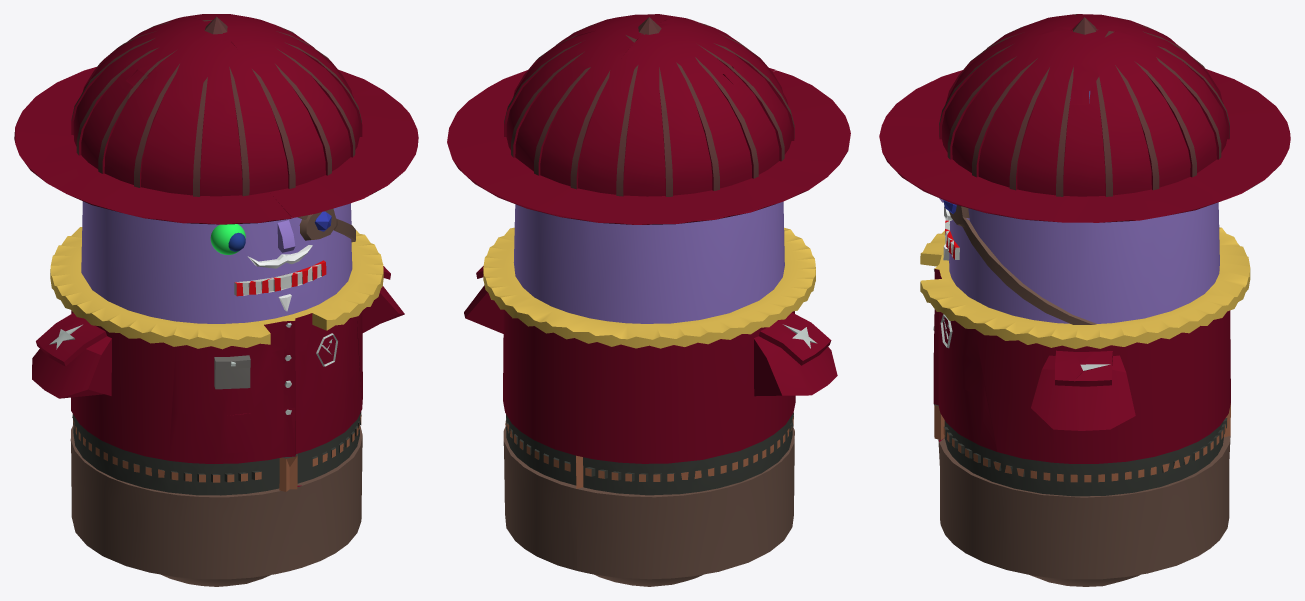
The model's file is PiyerLowPoly.fbx.
3 views of the same model, side by side, from view 1: azimuth 30°, elevation 25°; view 2: azimuth 150°, elevation 25°; view 3: azimuth 270°, elevation 25° (orthographic).
Parts seen in each view (by area): view 1: Sphere, Sphere.001; view 2: Sphere; view 3: Sphere.
Boxes of the visible parts, x1,y1,x2,y2 form: Sphere: [14, 14, 418, 586]; Sphere.001: [210, 224, 245, 254]; Sphere: [447, 14, 850, 586]; Sphere: [879, 14, 1290, 586].
Size of the model in its own units: 268 by 406 by 272.
